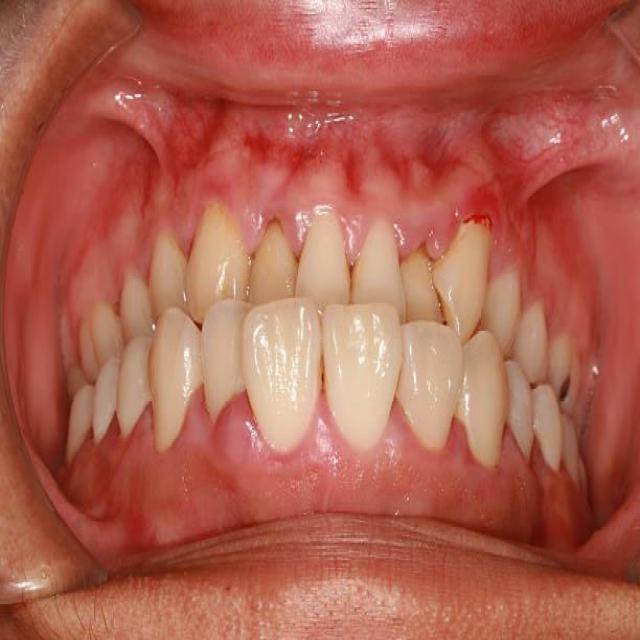caries: (549, 364, 583, 417)
